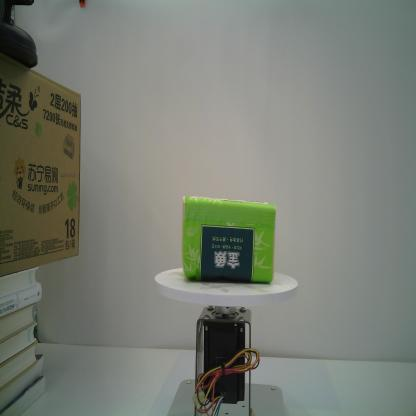Tissue: (179, 194, 277, 286)
